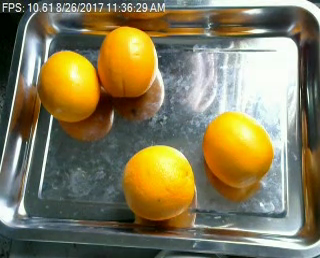Orange: (122, 144, 196, 219), (203, 110, 272, 187), (35, 49, 98, 120), (97, 25, 158, 98)
